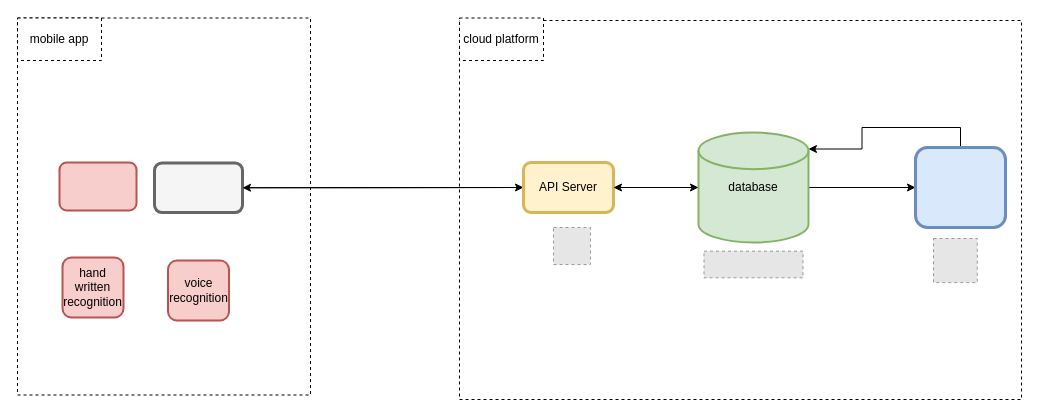
Image size: 1039x417. Some labels were removed from this diagram. Grey dashed boxes stand in for pictures. Here are the shapes that lost their labels. From the top down, the box of each, then its label:
(58, 161, 137, 211): personalised learnig
(152, 161, 244, 214): mobile client
(914, 146, 1006, 228): user analytics and statistics
